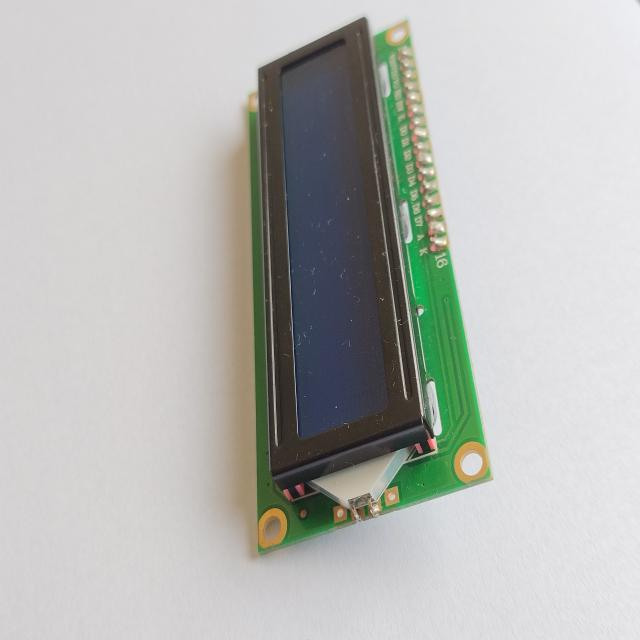lcd: (246, 15, 494, 555)
